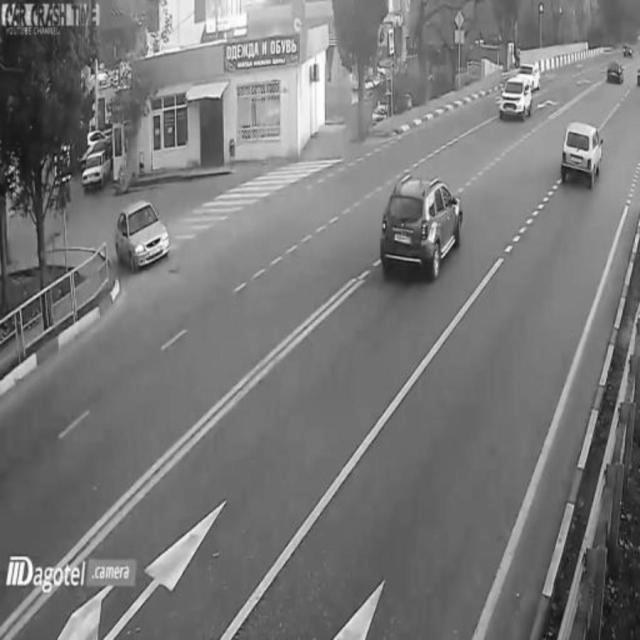vehicle: (378, 172, 464, 280), (111, 196, 173, 279), (558, 116, 606, 189), (497, 71, 531, 121), (79, 144, 113, 192), (604, 54, 624, 89)
